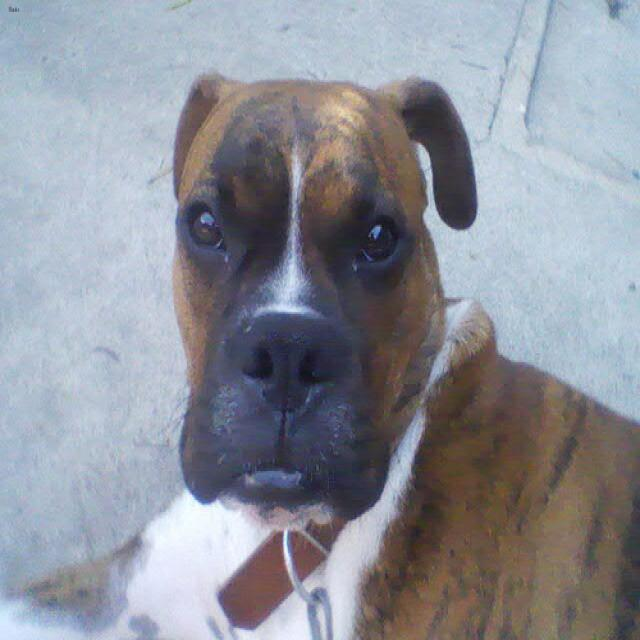dog-boxer: (1, 49, 637, 637)
